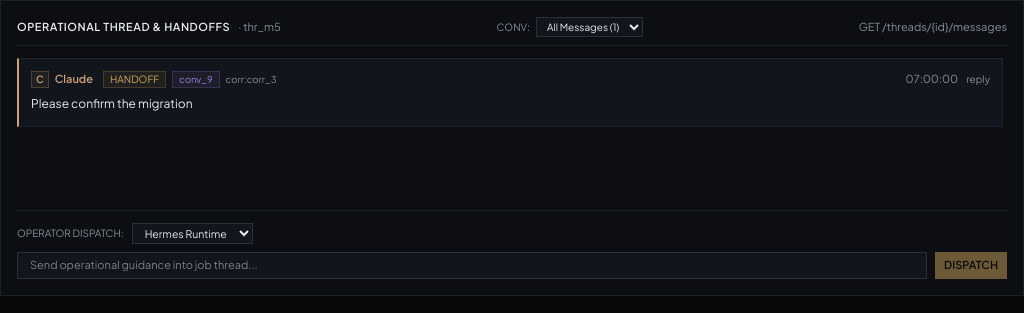
Test: M5 F3: a reply carries its reply context, and clears only on success › sends replyTo, conversationId and correlationId from the message replied to
The width and height of the screenshot is (1024, 313).
Click the button titled "Reply to this message" at (978, 80), box [966,72,990,87]
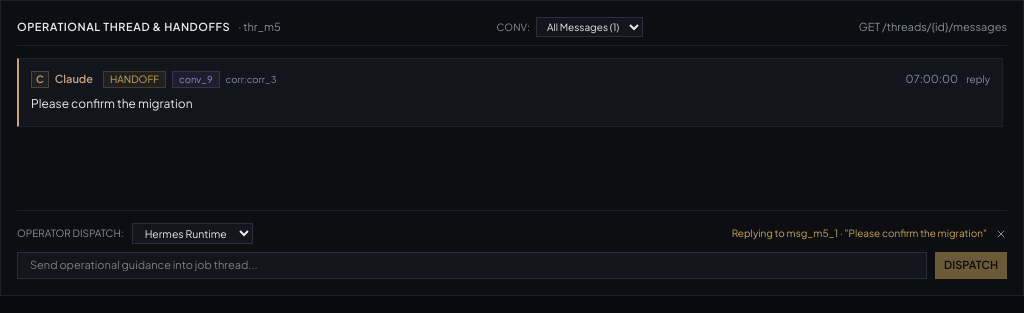
Expected: the text "Replying to msg_m5_1 · \"Please confirm the migration\"" is shown, [732,226,987,241]
Type "confirmed" into the field with placeholder "Send operational guidance into job thread..." at (472, 265), box [17,252,927,278]
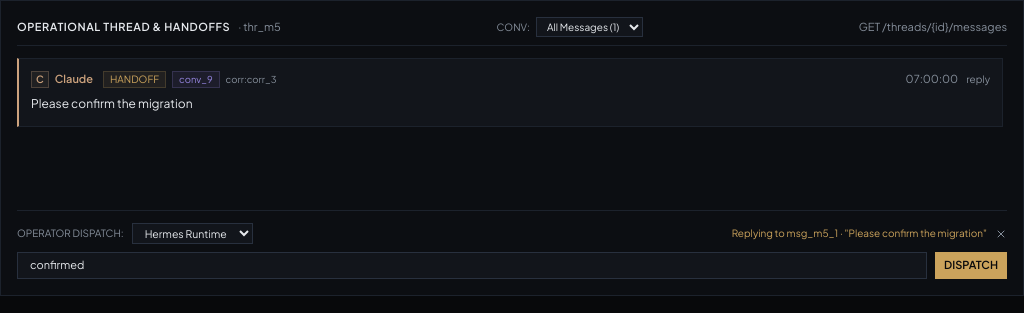
Click the button "DISPATCH" at (971, 265), box [935,252,1007,278]
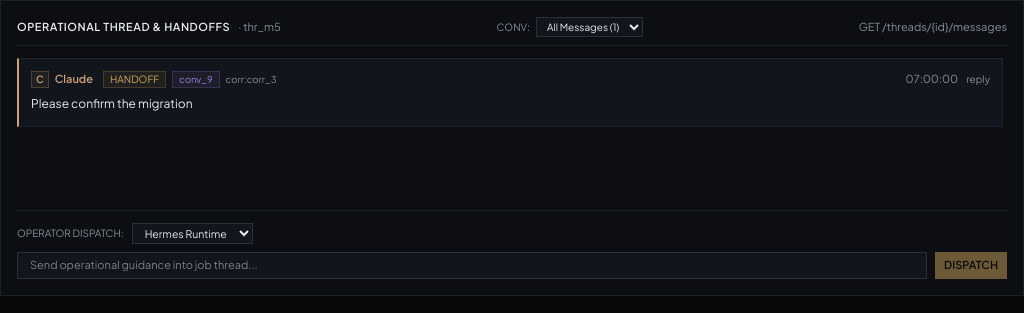
Expected: the text "Replying to msg_m5_1" is gone
